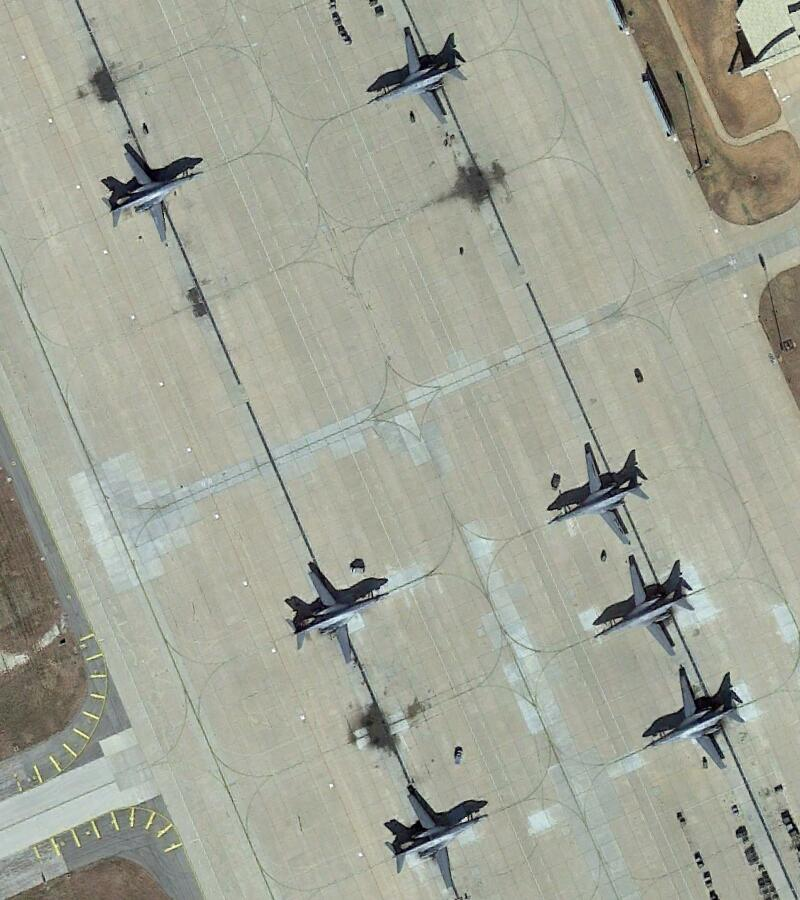A10: (272, 557, 394, 664), (539, 435, 650, 546), (97, 138, 208, 246), (362, 23, 474, 130), (380, 786, 495, 889), (642, 666, 749, 772), (592, 556, 697, 659)
